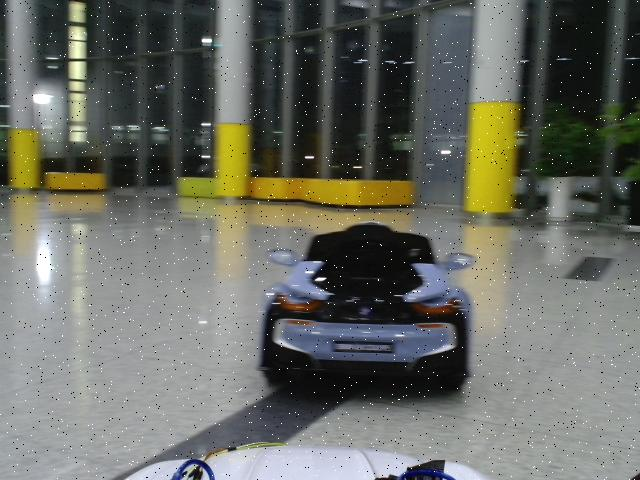car: (259, 222, 476, 392)
